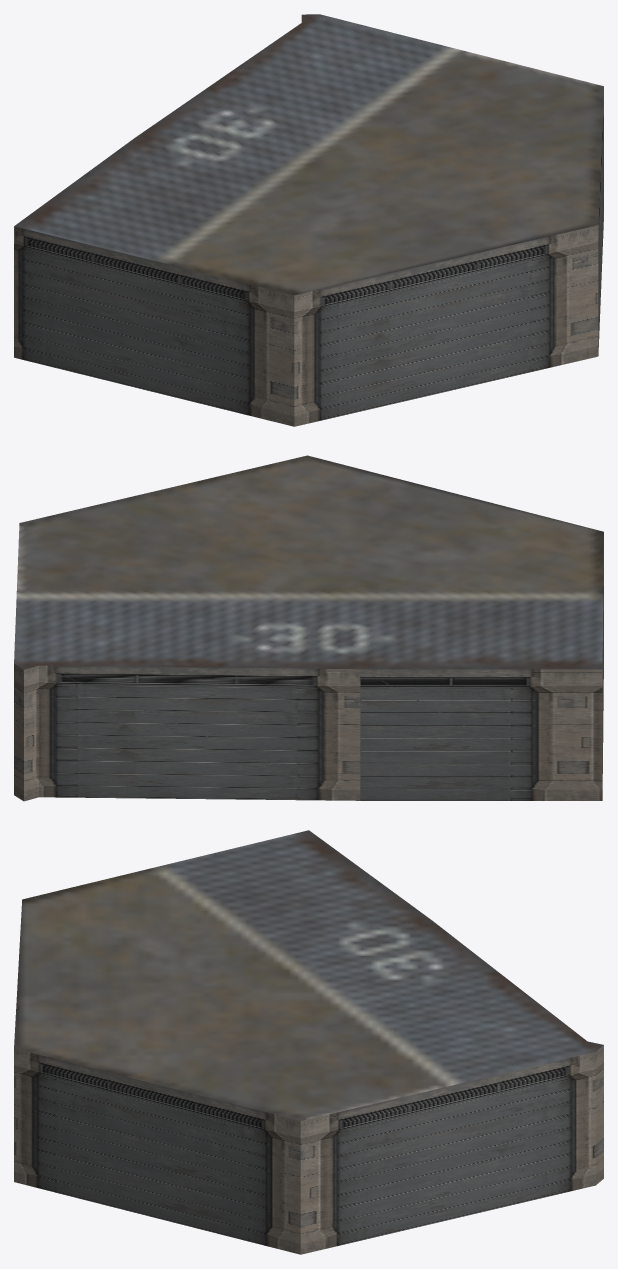
Rendered from hangar_light_30.glb.
3 views of the same model, one above another, from view 1: azimuth 30°, elevation 25°; view 2: azimuth 150°, elevation 25°; view 3: azimuth 270°, elevation 25° (orthographic).
Visible parts, largest first — view 1: buildings/saxarba/hangar_light/hangar_light_30; view 2: buildings/saxarba/hangar_light/hangar_light_30; view 3: buildings/saxarba/hangar_light/hangar_light_30.
Part boxes in pixels (x1=…): buildings/saxarba/hangar_light/hangar_light_30: x1=14, y1=14, x2=603, y2=426; buildings/saxarba/hangar_light/hangar_light_30: x1=14, y1=455, x2=603, y2=801; buildings/saxarba/hangar_light/hangar_light_30: x1=14, y1=830, x2=603, y2=1254.
Size of the model in its own units: 84 by 18 by 72.
